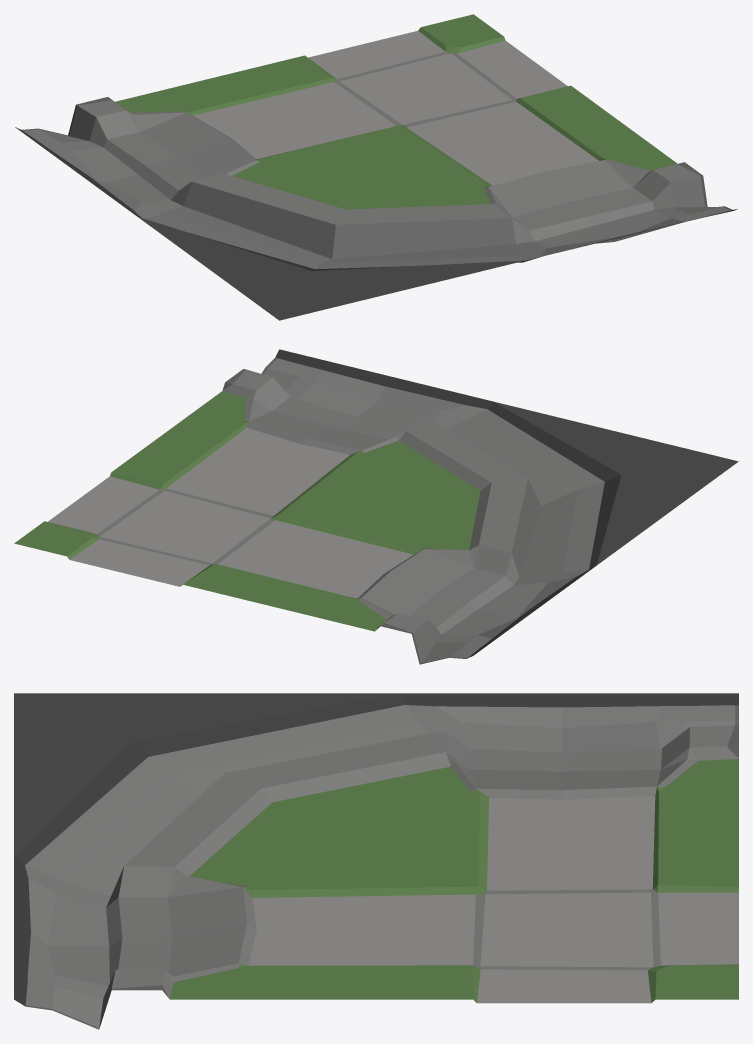
Rendered from SM_Env_Sidewalk_Corner_03.glb.
3 renders of one model, top to bottom at view 1: azimuth 30°, elevation 25°; view 2: azimuth 150°, elevation 25°; view 3: azimuth 270°, elevation 25°, orthographic. The views are drawn at different scales.
Parts seen in each view (by area): view 1: SM_Env_Sidewalk_Corner_03; view 2: SM_Env_Sidewalk_Corner_03; view 3: SM_Env_Sidewalk_Corner_03.
Part boxes in pixels (x1,y1,x2,y2): SM_Env_Sidewalk_Corner_03: (15,14,737,320); SM_Env_Sidewalk_Corner_03: (14,349,738,664); SM_Env_Sidewalk_Corner_03: (14,693,738,1029).
Bounding box in the file's own units: 5 × 0.3 × 5.
1 material, 1 textured.
